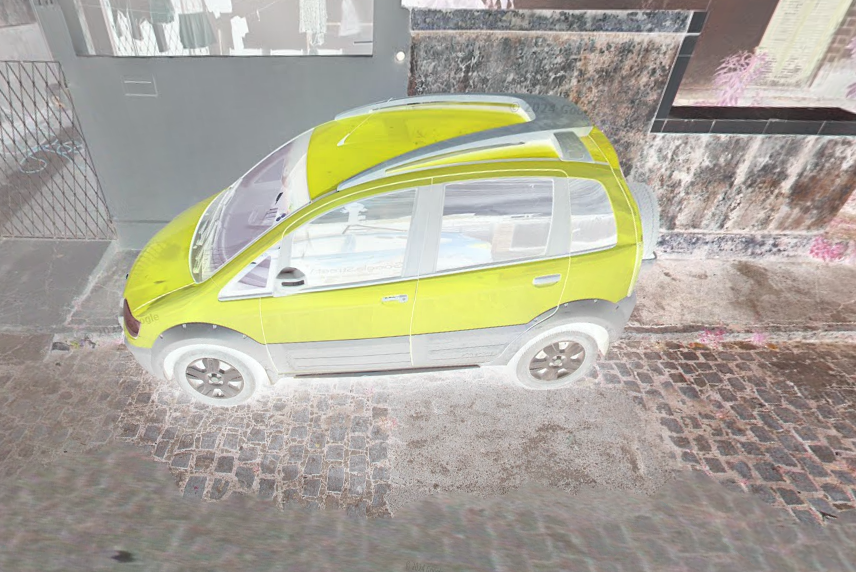car: (113, 88, 660, 418)
